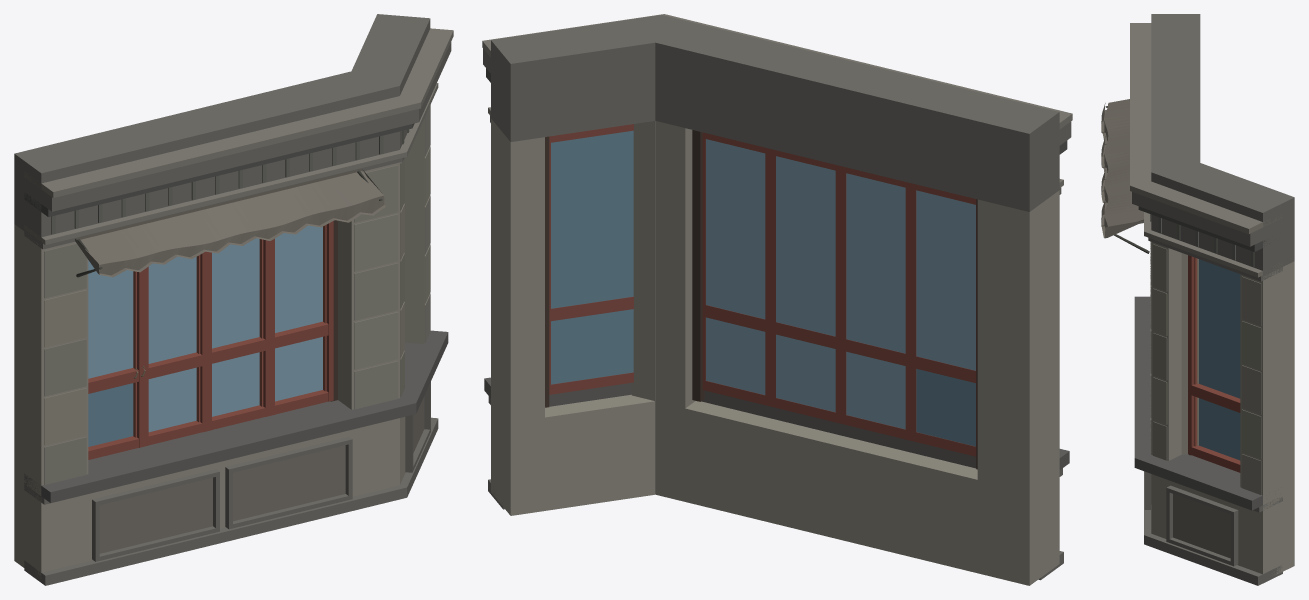
File: jingan-xiudeli-41-canted-bay-awning-web.glb
The picture shows the model from 3 angles, left to right: view 1: azimuth 30°, elevation 25°; view 2: azimuth 150°, elevation 25°; view 3: azimuth 270°, elevation 25°; orthographic projection. The views are drawn at different scales.
Visible parts, largest first — view 1: 修德里41号住宅四联木窗、斜角窗与波齿雨篷; view 2: 修德里41号住宅四联木窗、斜角窗与波齿雨篷; view 3: 修德里41号住宅四联木窗、斜角窗与波齿雨篷.
Part boxes in pixels (<box>): 修德里41号住宅四联木窗、斜角窗与波齿雨篷: <box>14,14,453,585</box>; 修德里41号住宅四联木窗、斜角窗与波齿雨篷: <box>482,14,1072,585</box>; 修德里41号住宅四联木窗、斜角窗与波齿雨篷: <box>1101,14,1294,585</box>.
Size of the model in its own units: 3.19 by 2.68 by 1.27.
